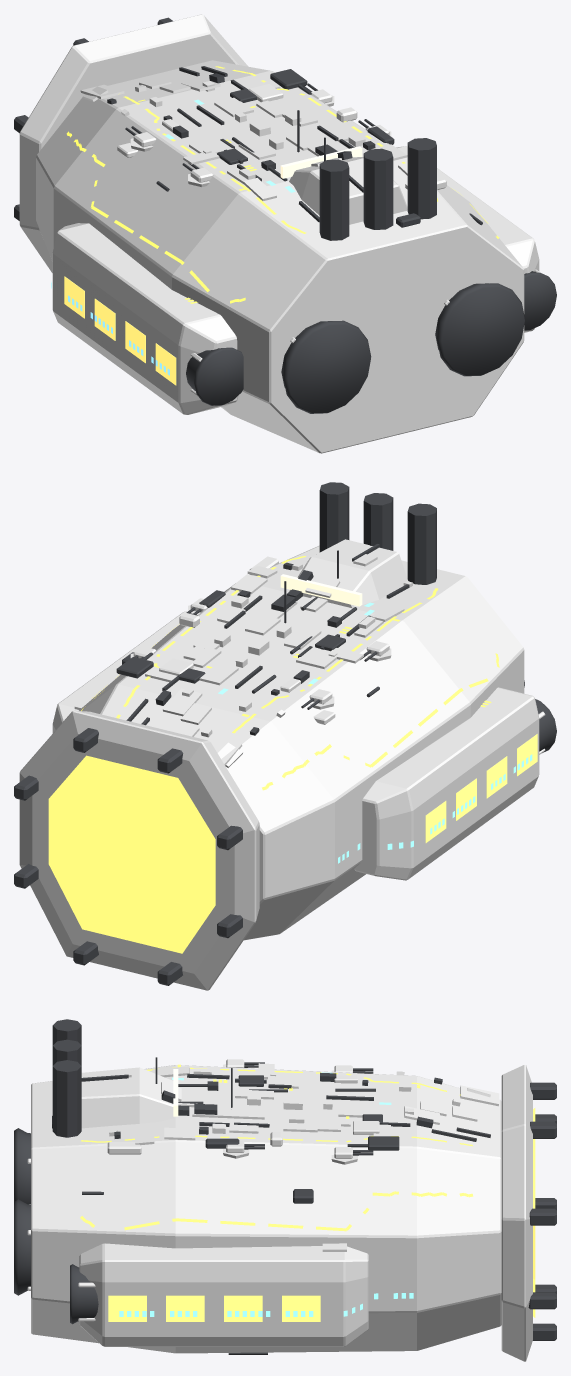
The model's file is begemot.glb.
3 renders of one model, top to bottom at view 1: azimuth 30°, elevation 25°; view 2: azimuth 150°, elevation 25°; view 3: azimuth 270°, elevation 25°, orthographic. The views are drawn at different scales.
Parts seen in each view (by area): view 1: Корпус, Цех.001, Зев, Кожух_дюзы, Кожух_дюзы.002, Накладные_плиты, Кожух_дюзы.003, Труба, Труба.001, Труба.002, Мостик, Цех (+8 smaller); view 2: Корпус, Жерло, Зев, Цех.001, Накладные_плиты, Мостик, Механика, Труба, Труба.002, Разметка, Цех, Труба.001 (+3 smaller); view 3: Корпус, Цех, Зев, Накладные_плиты, Мостик, Механика, Труба.002, Разметка, Кожух_дюзы, Кожух_дюзы.002, Кожух_дюзы.001, Люк_цеха.003 (+14 smaller).
Part boxes in pixels (left/top/right/bottom): Корпус: left=36, top=60, right=524, bottom=453; Цех.001: left=52, top=223, right=238, bottom=414; Зев: left=19, top=14, right=248, bottom=272; Кожух_дюзы: left=435, top=283, right=524, bottom=376; Кожух_дюзы.002: left=281, top=320, right=371, bottom=413; Накладные_плиты: left=80, top=78, right=407, bottom=200; Кожух_дюзы.003: left=186, top=347, right=243, bottom=405; Труба: left=319, top=159, right=349, bottom=240; Труба.001: left=363, top=148, right=393, bottom=229; Труба.002: left=407, top=138, right=436, bottom=219; Мостик: left=289, top=157, right=407, bottom=224; Цех: left=396, top=146, right=539, bottom=332; Корпус: left=79, top=545, right=524, bottom=940; Жерло: left=48, top=755, right=215, bottom=953; Зев: left=19, top=710, right=259, bottom=990; Цех.001: left=354, top=687, right=539, bottom=880; Накладные_плиты: left=74, top=554, right=412, bottom=767; Мостик: left=289, top=539, right=407, bottom=608; Механика: left=126, top=544, right=409, bottom=735; Труба: left=407, top=503, right=436, bottom=584; Труба.002: left=319, top=482, right=349, bottom=552; Разметка: left=81, top=556, right=499, bottom=790; Цех: left=52, top=611, right=187, bottom=733; Труба.001: left=363, top=493, right=393, bottom=550; Корпус: left=31, top=1065, right=501, bottom=1353; Цех: left=79, top=1243, right=368, bottom=1346; Зев: left=501, top=1065, right=532, bottom=1361; Накладные_плиты: left=108, top=1063, right=499, bottom=1251; Мостик: left=81, top=1067, right=175, bottom=1128; Механика: left=81, top=1057, right=490, bottom=1141; Труба.002: left=52, top=1060, right=81, bottom=1137; Разметка: left=80, top=1064, right=473, bottom=1231; Кожух_дюзы: left=14, top=1199, right=30, bottom=1295; Кожух_дюзы.002: left=14, top=1128, right=30, bottom=1204; Кожух_дюзы.001: left=70, top=1264, right=98, bottom=1324; Люк_цеха.003: left=108, top=1295, right=146, bottom=1321.
Size of the model in its own units: 1.65 by 1.3 by 2.25.
